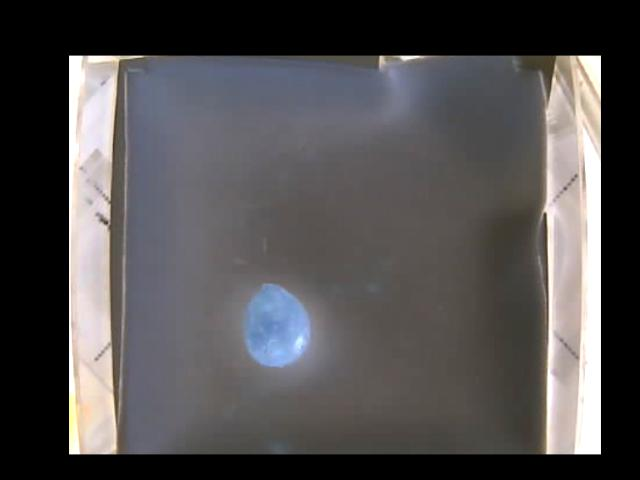Potato: (241, 284, 310, 367)
